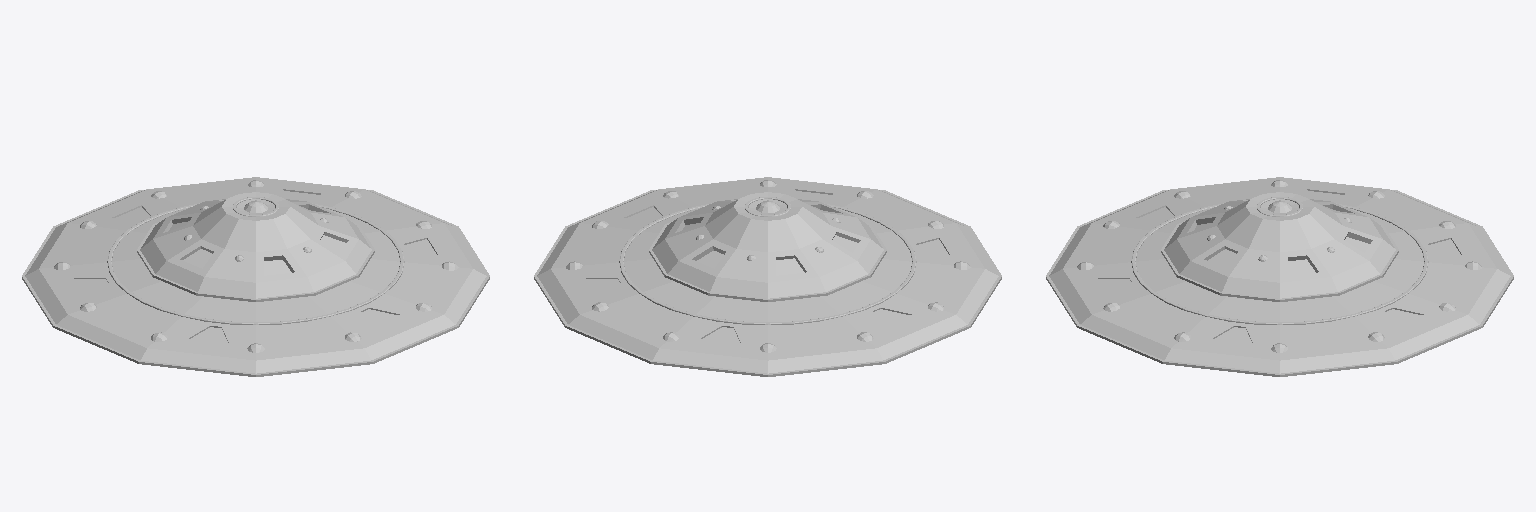
Rendered from ovni.obj.
3 renders of one model, left to right at view 1: azimuth 30°, elevation 25°; view 2: azimuth 150°, elevation 25°; view 3: azimuth 270°, elevation 25°, orthographic.
Parts seen in each view (by area): view 1: ovni; view 2: ovni; view 3: ovni.
Part boxes in pixels (x1,y1,x2,y2): ovni: (22,177,489,376); ovni: (534,177,1001,376); ovni: (1046,177,1513,376).
Size of the model in its own units: 4.24 by 1.08 by 4.24.